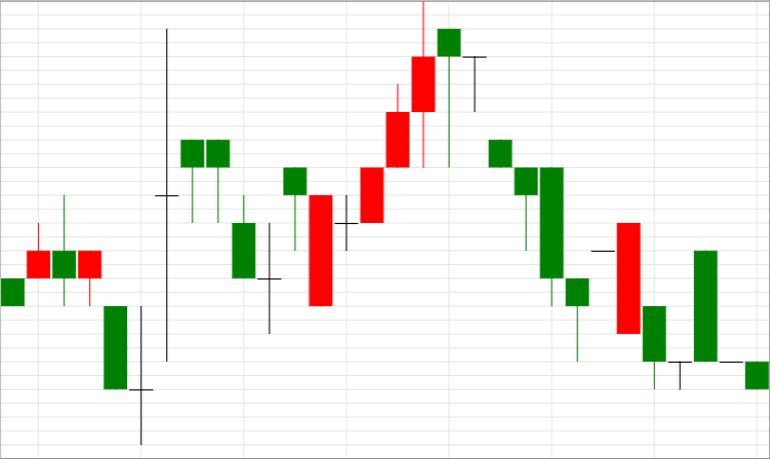hanging_man_fall: (309, 2, 461, 308)
